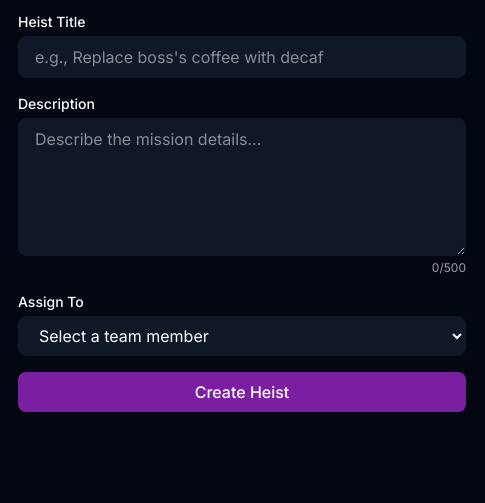
CreateHeistForm › shows validation errors for empty fields
Expected: the field labelled "Heist Title" is shown, [18,36,466,78]
Click the button "Create Heist" at {"x": 242, "y": 392}, box [18,372,466,412]
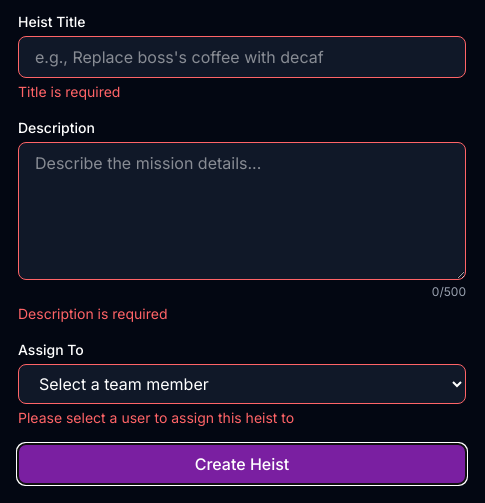
Now the text "Title is required" is shown, box [18,83,120,100]
Now the text "Description is required" is shown, box [18,305,168,322]
Now the text "Please select a user to assign this heist to" is shown, box [18,409,294,426]
